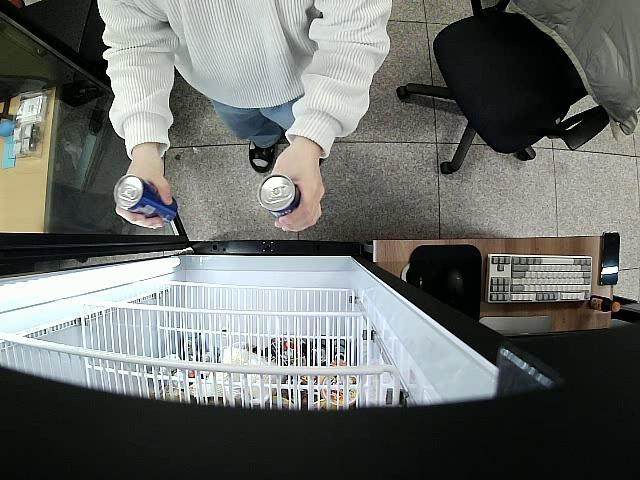16_hot6: (114, 174, 177, 225), (258, 175, 302, 216)
